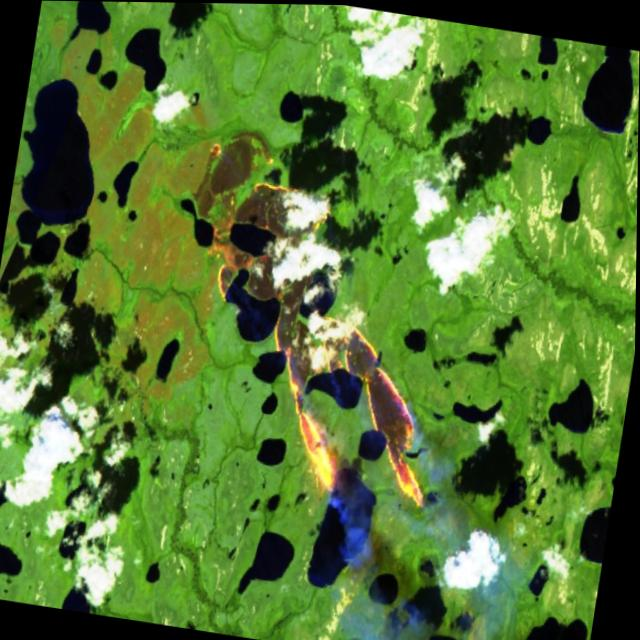fire: (154, 117, 487, 522)
